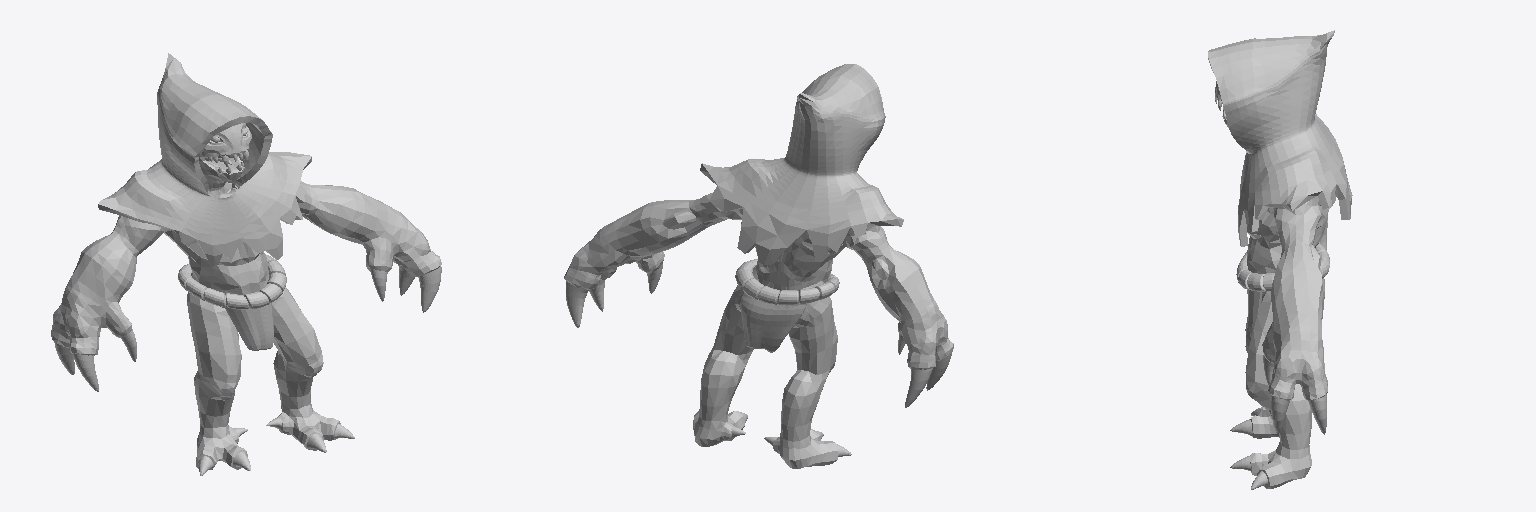
The model's file is RavagerCGDance2.obj.
The picture shows the model from 3 angles: view 1: azimuth 30°, elevation 25°; view 2: azimuth 150°, elevation 25°; view 3: azimuth 270°, elevation 25°; orthographic projection.
Parts seen in each view (by area): view 1: hood_Cube.001; view 2: hood_Cube.001; view 3: hood_Cube.001.
Part boxes in pixels (left/top/right/bottom): hood_Cube.001: left=51, top=53, right=441, bottom=475; hood_Cube.001: left=564, top=64, right=953, bottom=468; hood_Cube.001: left=1208, top=30, right=1352, bottom=489.
Bounding box in the file's own units: 0.9844 × 1 × 0.3341.